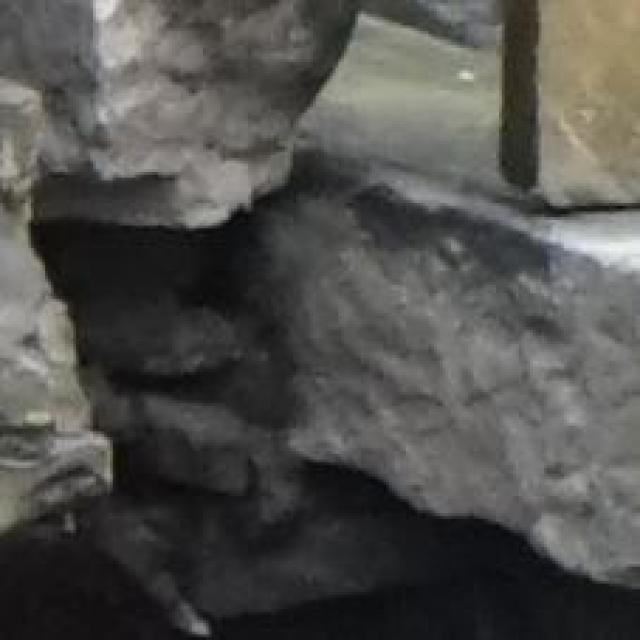Crack: (0, 65, 502, 637)
